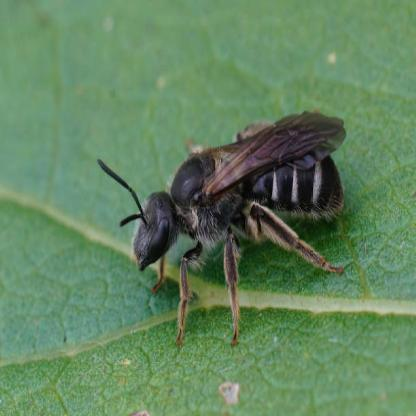sawfly: (96, 107, 364, 351)
